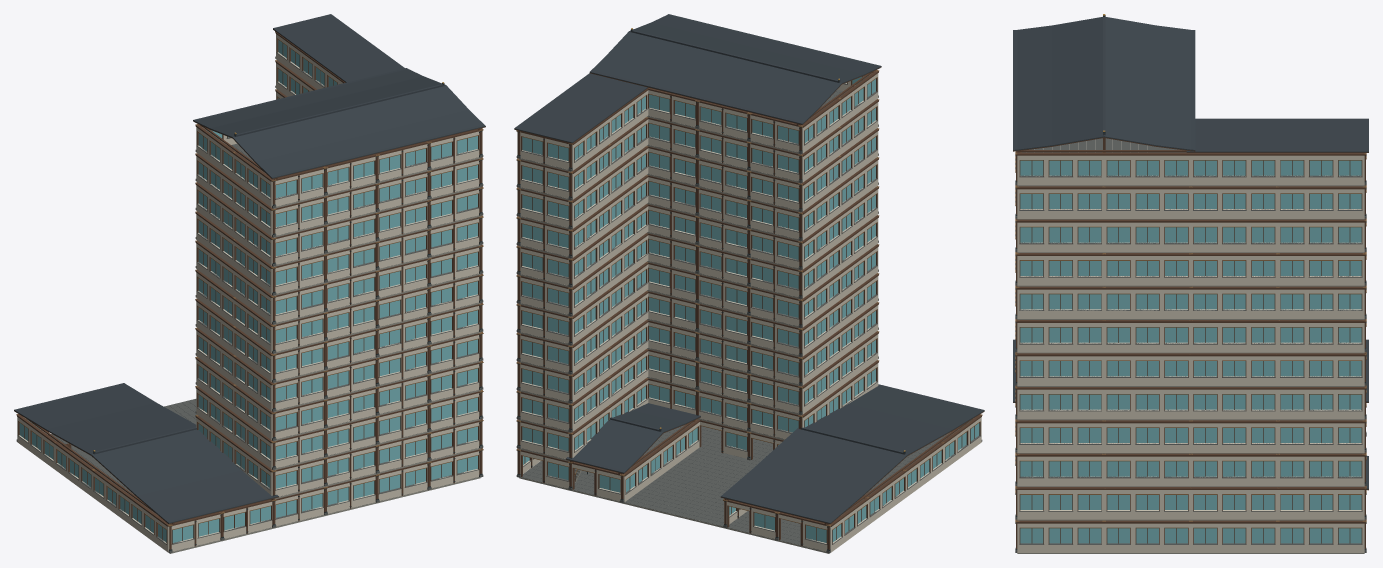
The model's file is visual-far.glb.
3 views of the same model, side by side, from view 1: azimuth 30°, elevation 25°; view 2: azimuth 150°, elevation 25°; view 3: azimuth 270°, elevation 25° (orthographic). The views are drawn at different scales.
Visible parts, largest first — view 1: 参数墙 · 独立窗玻璃 (×78), 连续屋面 · gable (×2), 连续屋面 · flat; view 2: 参数墙 · 独立窗玻璃 (×94), 连续屋面 · gable (×3), 石铺面与混凝土楼板 (×4), 参数墙 · 通行门洞 (×5), 连续屋面 · flat; view 3: 参数墙 · 独立窗玻璃 (×48), 连续屋面 · gable, 连续屋面 · flat, 石铺面与混凝土楼板 (×2).
Boxes of the visible parts, bbox=[...] form: 参数墙 · 独立窗玻璃 (×78): bbox=[17, 32, 480, 552]; 连续屋面 · gable (×2): bbox=[14, 68, 485, 524]; 连续屋面 · flat: bbox=[273, 14, 404, 82]; 参数墙 · 独立窗玻璃 (×94): bbox=[519, 71, 981, 552]; 连续屋面 · gable (×3): bbox=[566, 14, 984, 524]; 石铺面与混凝土楼板 (×4): bbox=[622, 447, 799, 541]; 参数墙 · 通行门洞 (×5): bbox=[520, 419, 829, 551]; 连续屋面 · flat: bbox=[514, 73, 648, 143]; 参数墙 · 独立窗玻璃 (×48): bbox=[1017, 152, 1364, 552]; 连续屋面 · gable: bbox=[1013, 14, 1195, 152]; 连续屋面 · flat: bbox=[1186, 118, 1368, 152]; 石铺面与混凝土楼板 (×2): bbox=[1022, 138, 1186, 152].
Bounding box in the file's own units: 38.8 × 43.08 × 32.8.
15 materials, 15 textured.
